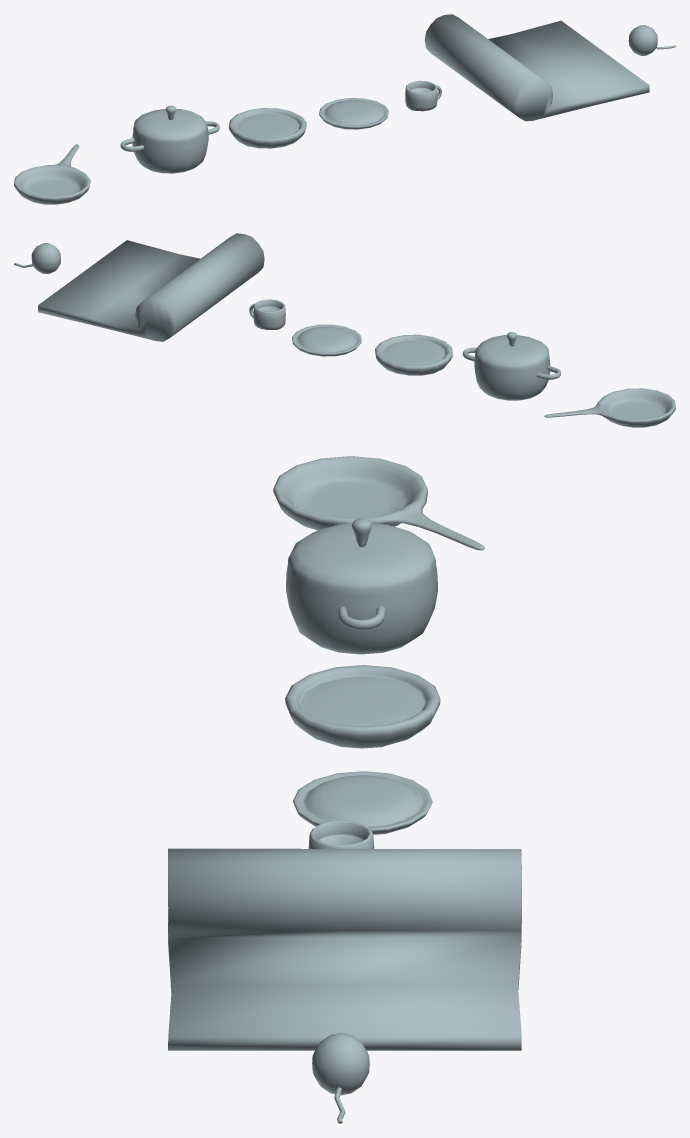
File: calmaaj products.fbx
3 renders of one model, top to bottom at view 1: azimuth 30°, elevation 25°; view 2: azimuth 150°, elevation 25°; view 3: azimuth 270°, elevation 25°, orthographic. The views are drawn at different scales.
Visible parts, largest first — view 1: rug, pot, frying pan, bowl, plate, mug, yarn ball; view 2: rug, pot, frying pan, bowl, plate, mug, yarn ball; view 3: rug, pot, bowl, frying pan, plate, yarn ball, mug.
Part boxes in pixels (x1,y1,x2,y2): rug: (424, 14, 649, 121); pot: (120, 105, 219, 173); frying pan: (14, 144, 90, 204); bowl: (228, 108, 306, 148); plate: (319, 98, 388, 129); mug: (405, 80, 441, 111); yarn ball: (628, 25, 675, 55); rug: (38, 233, 264, 341); pot: (462, 332, 560, 400); frying pan: (544, 388, 675, 427); bowl: (375, 334, 452, 375); plate: (292, 324, 361, 356); mug: (249, 299, 285, 329); yarn ball: (14, 243, 60, 273); rug: (168, 848, 521, 1050); pot: (286, 518, 437, 654); bowl: (285, 665, 440, 748); frying pan: (273, 456, 484, 550); plate: (293, 771, 432, 834); yarn ball: (312, 1033, 369, 1123); mug: (308, 820, 374, 848).
Size of the model in its own units: 629 by 53.65 by 147.
